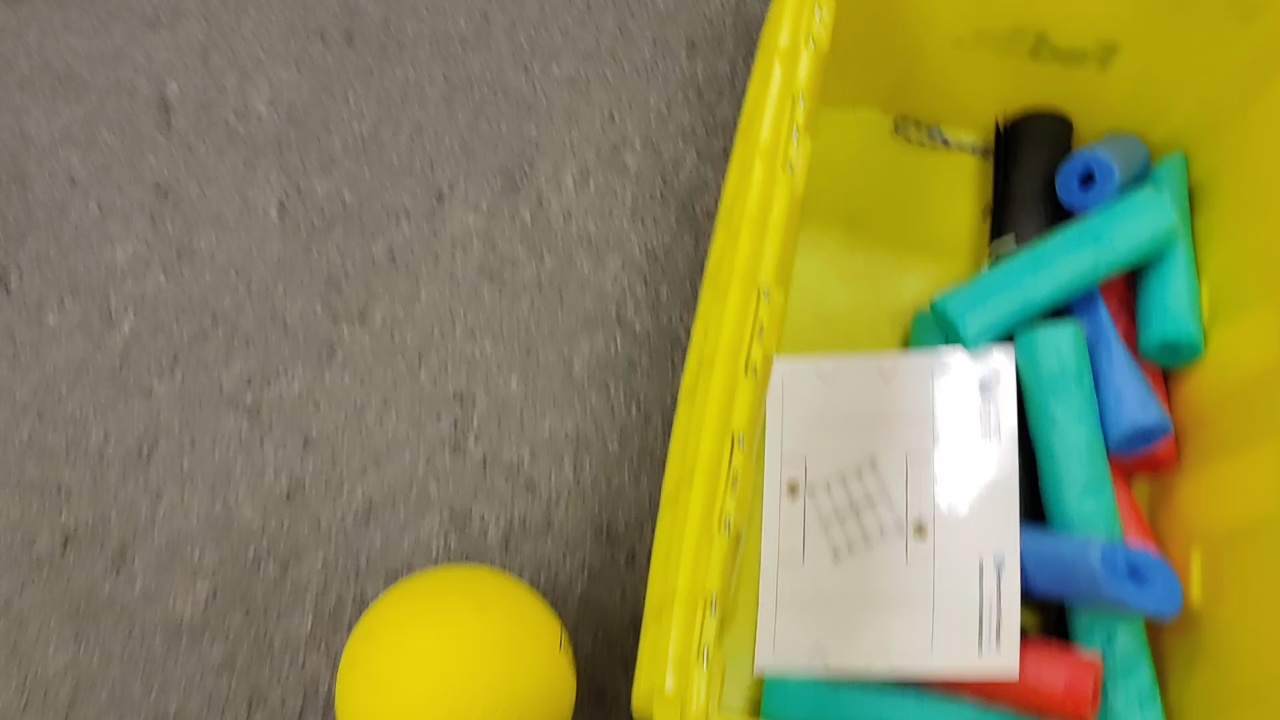Ball: (334, 561, 577, 720)
